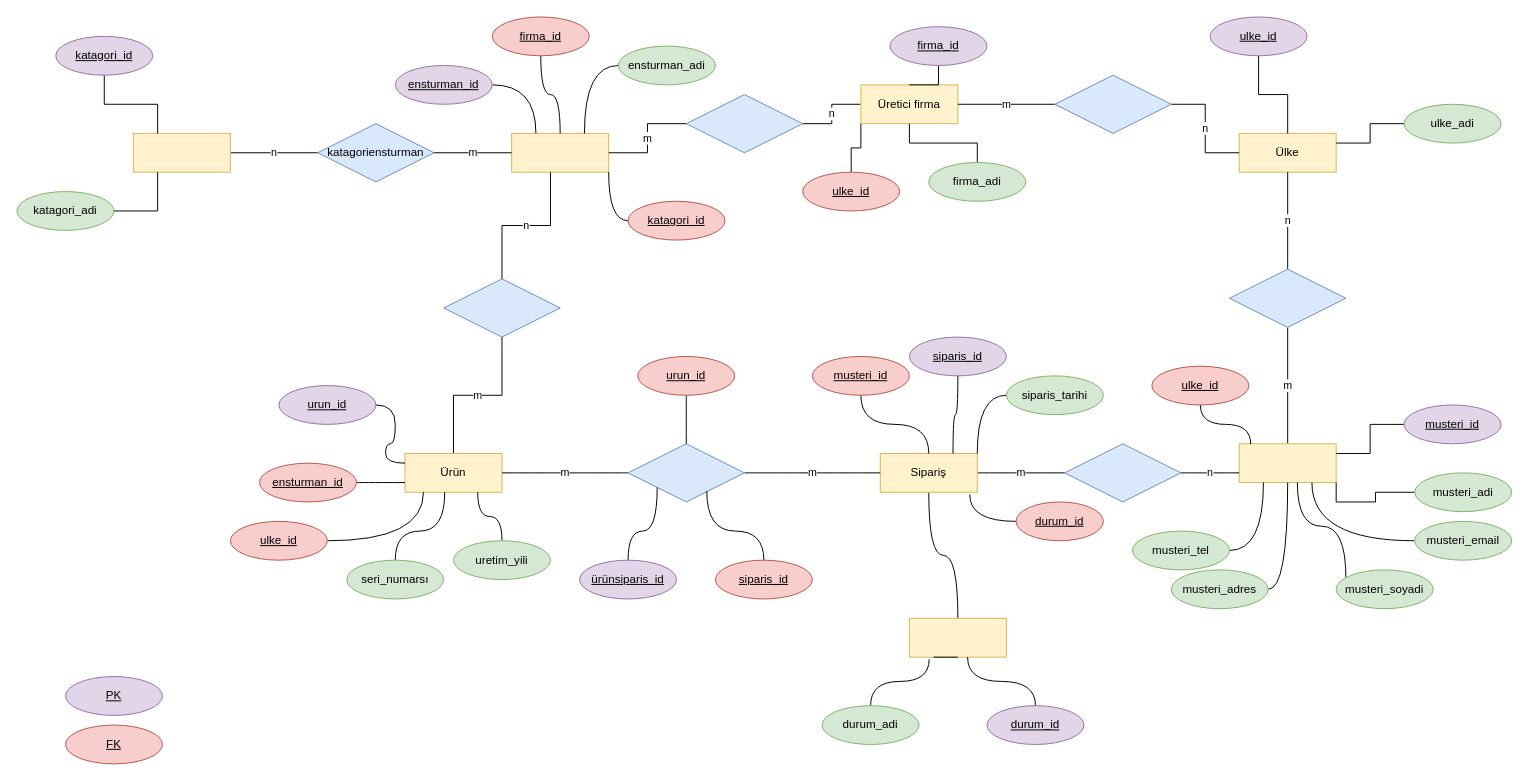
The diagram is 1529 pixels wide and 781 high, and some of its shapes have lost their labels. The shapes that lost their labels are listed below. From the top down, each one's centre as x and y in pixels, then its label:
At pixel 744 123: "ensturmanüretici".
At pixel 1112 103: "firmaülkesi".
At pixel 181 152: "Katogoriler".
At pixel 560 152: "Ensturman".
At pixel 501 307: "ensturmanürün".
At pixel 1287 297: "Relationship".
At pixel 685 472: "ürünsiparis".
At pixel 1122 472: "musterisiparis".
At pixel 1287 463: "Müşteri".
At pixel 957 637: "Sipariş Durumu".
